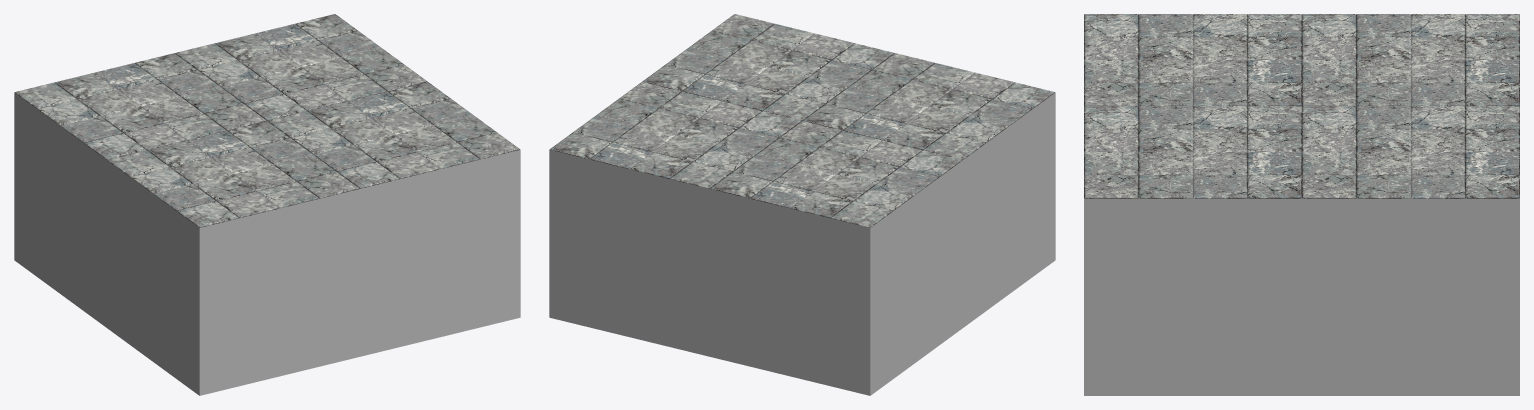
Rendered from Floor_4m.gltf.
3 views of the same model, side by side, from view 1: azimuth 30°, elevation 25°; view 2: azimuth 150°, elevation 25°; view 3: azimuth 270°, elevation 25° (orthographic). The views are drawn at different scales.
Visible parts, largest first — view 1: Floor_4m; view 2: Floor_4m; view 3: Floor_4m.
Boxes of the visible parts, box(x1,y1,x2,y2) form: Floor_4m: box(14, 14, 520, 395); Floor_4m: box(549, 14, 1055, 395); Floor_4m: box(1084, 14, 1519, 395).
Bounding box in the file's own units: 8 × 4.03 × 8.
